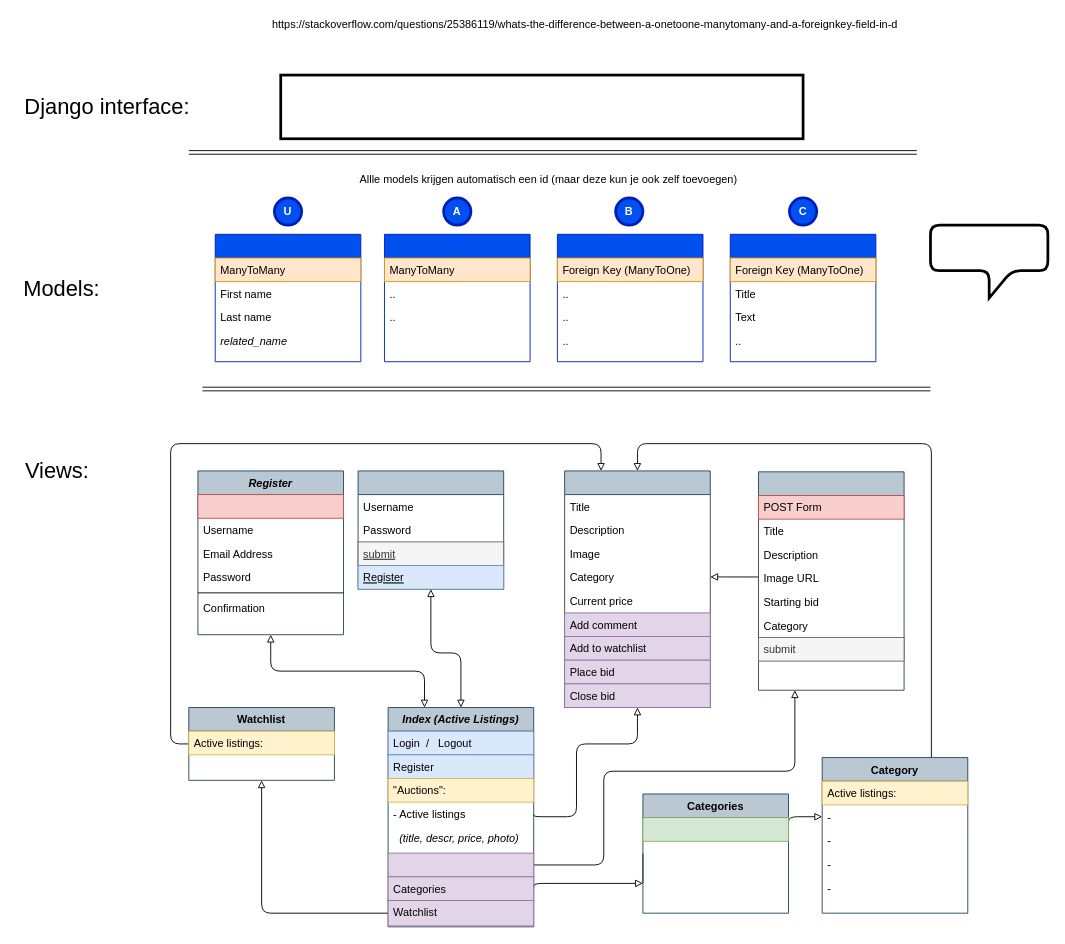
Image size: 1065x944. Some labels were removed from this diagram. The shapes that lost their labels are listed below. From the top down, each one's box as (x1, y1, x2, y2) in pixels, then its label:
(279, 73, 804, 140): View / Add / Edit / Delete
(929, 223, 1049, 299): non-users erbij?
(214, 233, 361, 362): Users
(384, 233, 530, 362): Auction listings
(556, 233, 703, 362): Bids
(729, 233, 876, 362): Comments
(197, 494, 344, 518): Form
(357, 470, 504, 589): Login
(564, 470, 710, 708): / listing
(758, 471, 904, 690): Create listing
(642, 817, 789, 841): Select category
(387, 852, 534, 877): Create listing item
